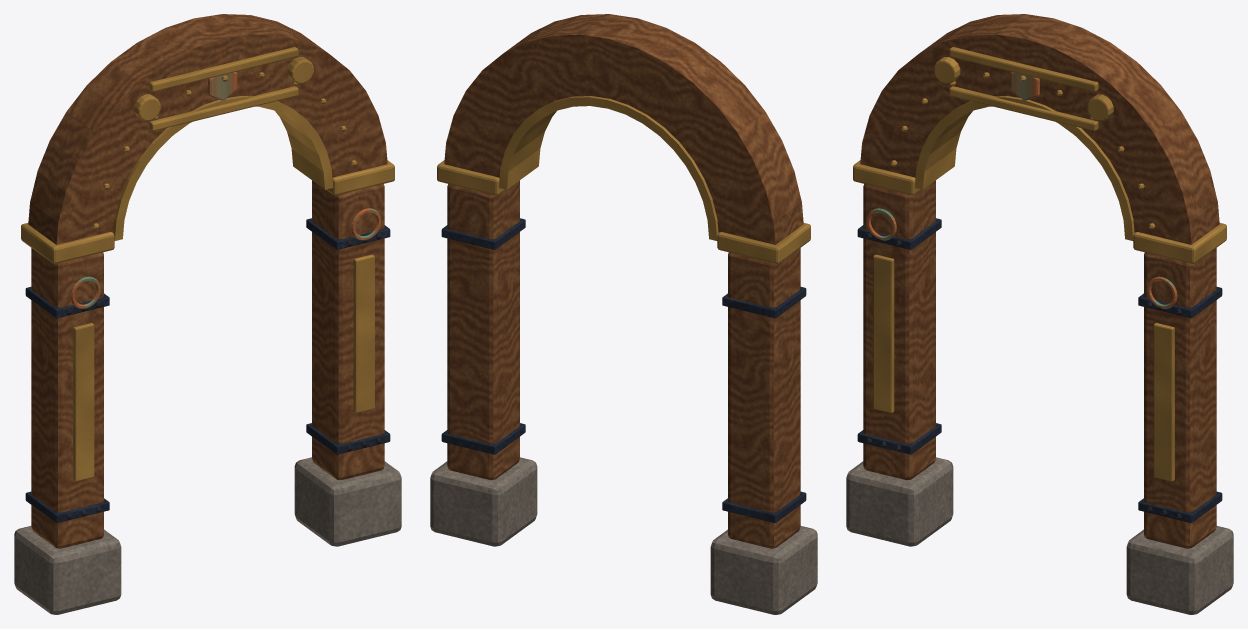
Rendered from museum_gate.glb.
The picture shows the model from 3 angles, left to right: view 1: azimuth 30°, elevation 25°; view 2: azimuth 150°, elevation 25°; view 3: azimuth 330°, elevation 25°; orthographic projection.
Visible parts, largest first — view 1: Museum_Arch, Museum_Post_-1, Museum_Post_1, Museum_Plinth_1, Museum_Plinth_-1, Museum_ArchBrass, Museum_BookSpine_1, Museum_BookSpine_-1, Museum_Cap_-1, Museum_Bookplate_Top, Museum_Bookplate_Bot, Museum_Cap_1 (+7 smaller); view 2: Museum_Arch, Museum_Post_-1, Museum_Post_1, Museum_Plinth_1, Museum_Plinth_-1, Museum_ArchBrass, Museum_Cap_-1, Museum_Cap_1, Museum_Band_1_1.75, Museum_Band_-1_0.55, Museum_Band_-1_1.75, Museum_Band_1_0.55; view 3: Museum_Arch, Museum_Post_1, Museum_Post_-1, Museum_Plinth_-1, Museum_Plinth_1, Museum_ArchBrass, Museum_BookSpine_-1, Museum_BookSpine_1, Museum_Cap_1, Museum_Bookplate_Top, Museum_Bookplate_Bot, Museum_Cap_-1 (+7 smaller).
Part boxes in pixels (bbox=[...]): Museum_Arch: bbox=[28, 14, 387, 244]; Museum_Post_-1: bbox=[31, 248, 103, 548]; Museum_Post_1: bbox=[312, 180, 384, 479]; Museum_Plinth_1: bbox=[294, 457, 401, 546]; Museum_Plinth_-1: bbox=[14, 526, 121, 614]; Museum_ArchBrass: bbox=[113, 96, 333, 240]; Museum_BookSpine_1: bbox=[353, 254, 374, 413]; Museum_BookSpine_-1: bbox=[73, 323, 94, 481]; Museum_Cap_-1: bbox=[21, 223, 114, 263]; Museum_Bookplate_Top: bbox=[149, 47, 298, 91]; Museum_Bookplate_Bot: bbox=[149, 86, 298, 131]; Museum_Cap_1: bbox=[326, 160, 394, 195]; Museum_Arch: bbox=[444, 14, 803, 244]; Museum_Post_-1: bbox=[728, 248, 800, 548]; Museum_Post_1: bbox=[447, 180, 519, 479]; Museum_Plinth_1: bbox=[430, 457, 537, 546]; Museum_Plinth_-1: bbox=[710, 526, 817, 614]; Museum_ArchBrass: bbox=[498, 96, 718, 240]; Museum_Cap_-1: bbox=[717, 223, 810, 263]; Museum_Cap_1: bbox=[437, 160, 505, 195]; Museum_Band_1_1.75: bbox=[441, 218, 525, 249]; Museum_Band_-1_0.55: bbox=[722, 491, 806, 522]; Museum_Band_-1_1.75: bbox=[722, 287, 806, 318]; Museum_Band_1_0.55: bbox=[441, 423, 525, 454]; Museum_Arch: bbox=[860, 14, 1219, 244]; Museum_Post_1: bbox=[1144, 248, 1216, 548]; Museum_Post_-1: bbox=[863, 180, 935, 479]; Museum_Plinth_-1: bbox=[846, 457, 953, 546]; Museum_Plinth_1: bbox=[1126, 526, 1233, 614]; Museum_ArchBrass: bbox=[914, 96, 1134, 240]; Museum_BookSpine_-1: bbox=[873, 254, 894, 413]; Museum_BookSpine_1: bbox=[1153, 323, 1174, 481]; Museum_Cap_1: bbox=[1133, 223, 1226, 263]; Museum_Bookplate_Top: bbox=[949, 47, 1098, 91]; Museum_Bookplate_Bot: bbox=[949, 86, 1098, 131]; Museum_Cap_-1: bbox=[853, 160, 921, 195].
Size of the model in its own units: 2.16 by 3.12 by 0.44.
Materials: 6 (6 with a texture image).
